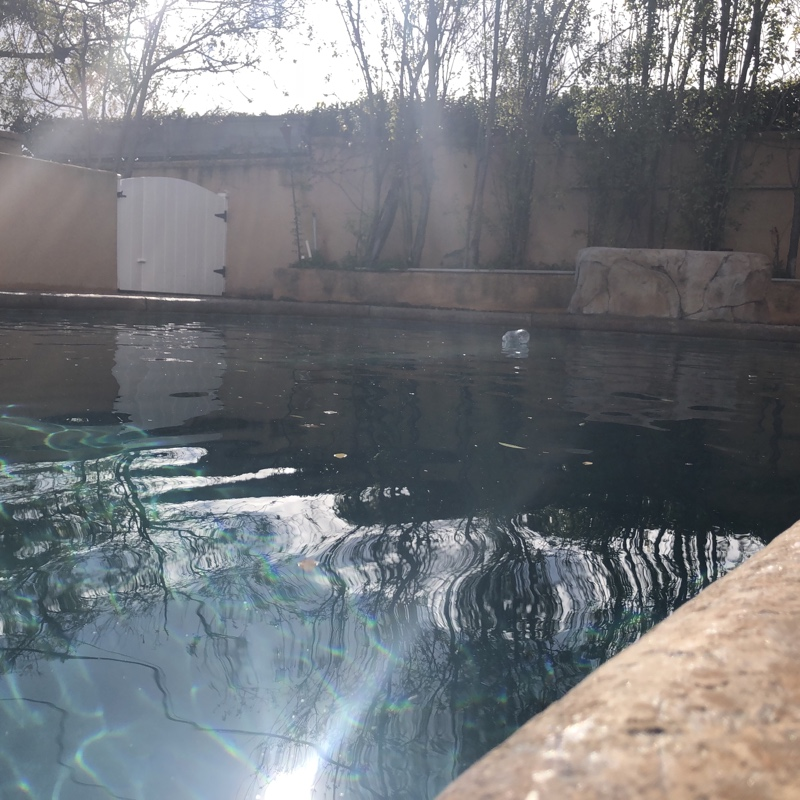Plastic Bottle: (500, 329, 528, 347)
